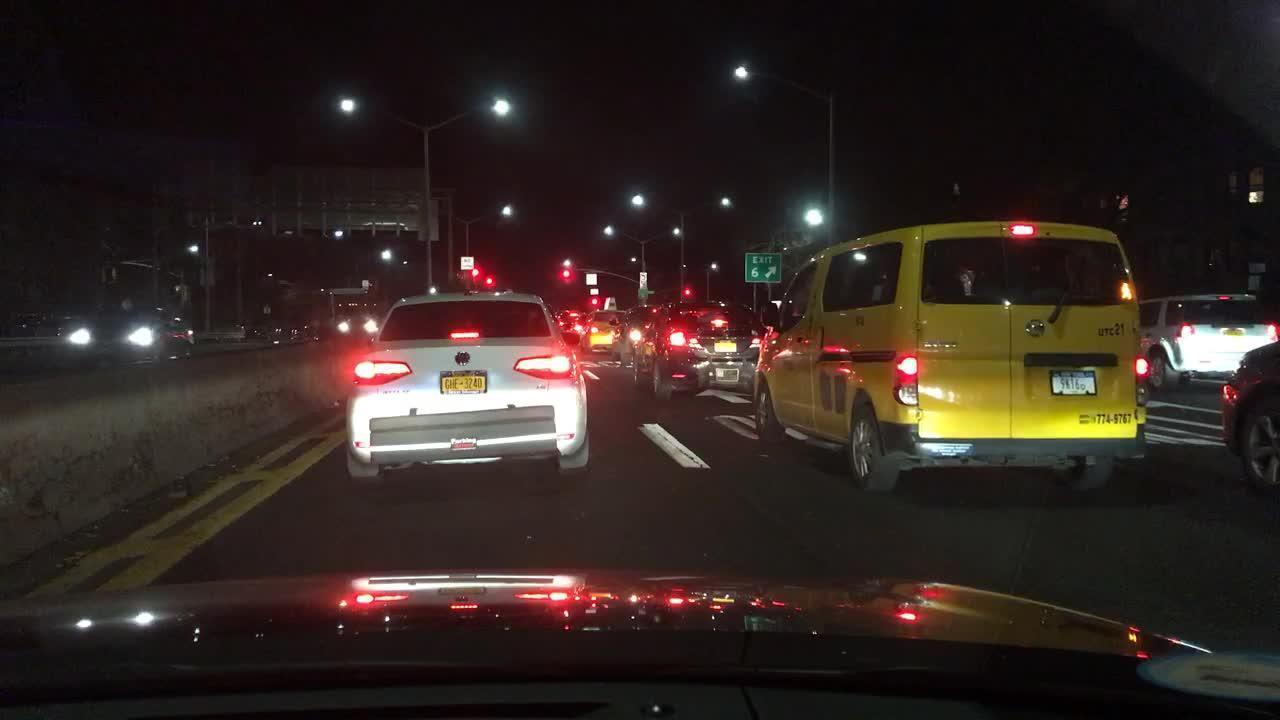Volkswagen: (450, 350, 475, 371)
